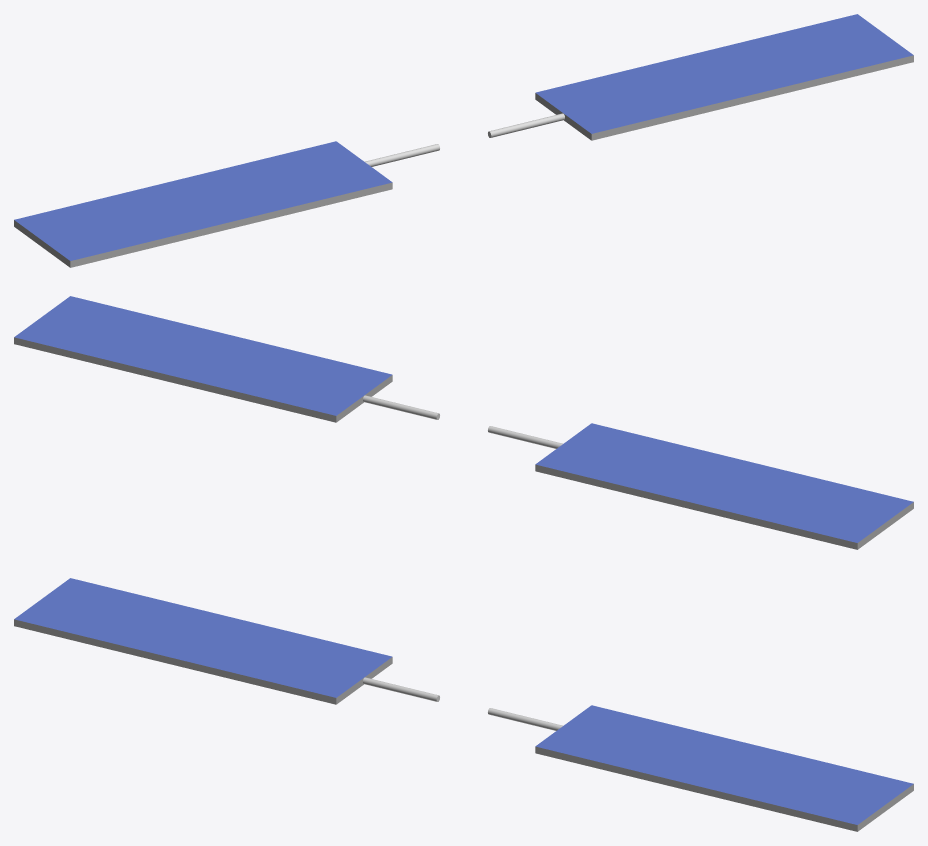
File: satellite-kit-8.glb
The picture shows the model from 3 angles, top to bottom: view 1: azimuth 30°, elevation 25°; view 2: azimuth 150°, elevation 25°; view 3: azimuth 330°, elevation 25°; orthographic projection.
Visible parts, largest first — view 1: SatWing1.001, SatWing2, SatWingConnector6, SatWingConnector5; view 2: SatWing1.001, SatWing2, SatWingConnector6, SatWingConnector5; view 3: SatWing2, SatWing1.001, SatWingConnector5, SatWingConnector6.
Part boxes in pixels (box(x1,y1,x2,y2)): SatWing1.001: box(14, 141, 392, 267); SatWing2: box(535, 14, 913, 140); SatWingConnector6: box(488, 113, 564, 137); SatWingConnector5: box(365, 144, 439, 166); SatWing1.001: box(535, 423, 913, 549); SatWing2: box(14, 296, 392, 422); SatWingConnector6: box(363, 395, 439, 419); SatWingConnector5: box(488, 426, 562, 448); SatWing2: box(535, 705, 913, 831); SatWing1.001: box(14, 578, 392, 704); SatWingConnector5: box(363, 677, 439, 701); SatWingConnector6: box(488, 708, 562, 730).
Size of the model in its own units: 0.259 by 0.002 by 0.03.
